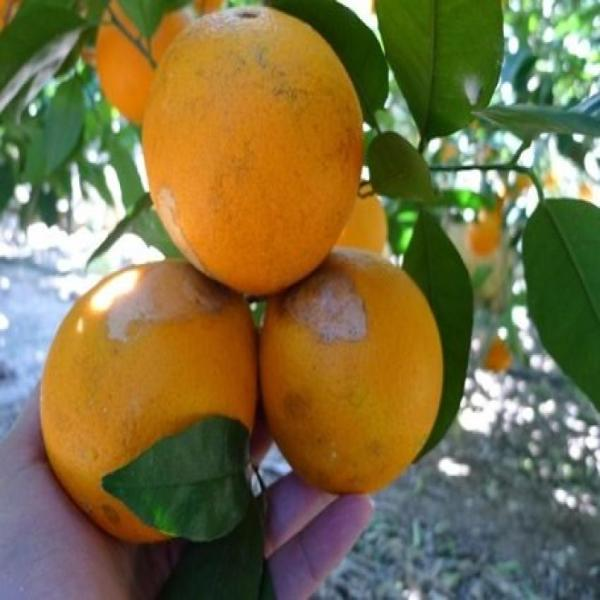Trips: (32, 254, 266, 551), (139, 7, 363, 306), (258, 242, 445, 505)
